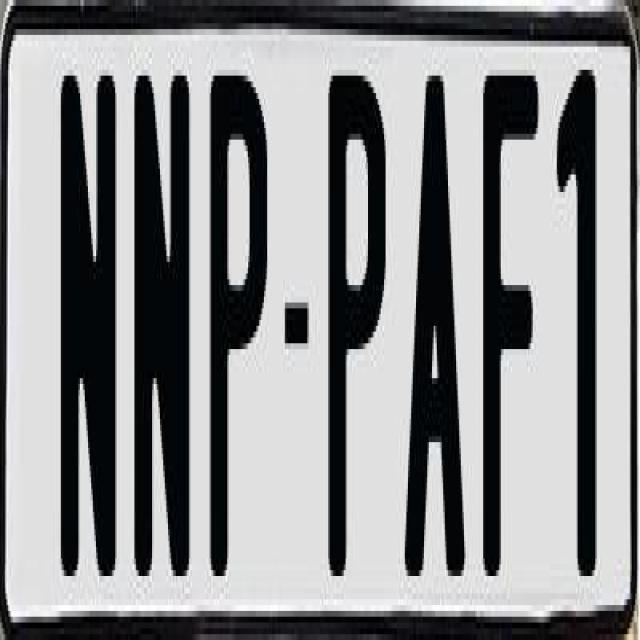1: (552, 70, 594, 611)
A: (404, 58, 476, 564)
F: (478, 70, 536, 582)
N: (60, 64, 121, 582), (130, 70, 188, 606)
P: (210, 70, 276, 606), (324, 58, 382, 582)
